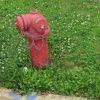a fire hydrant: (18, 7, 52, 70)
